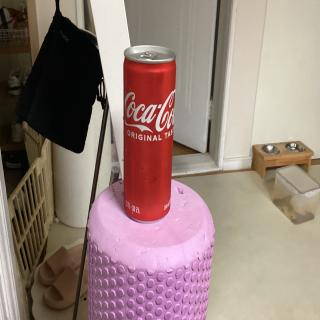cocacola: (120, 42, 180, 226)
